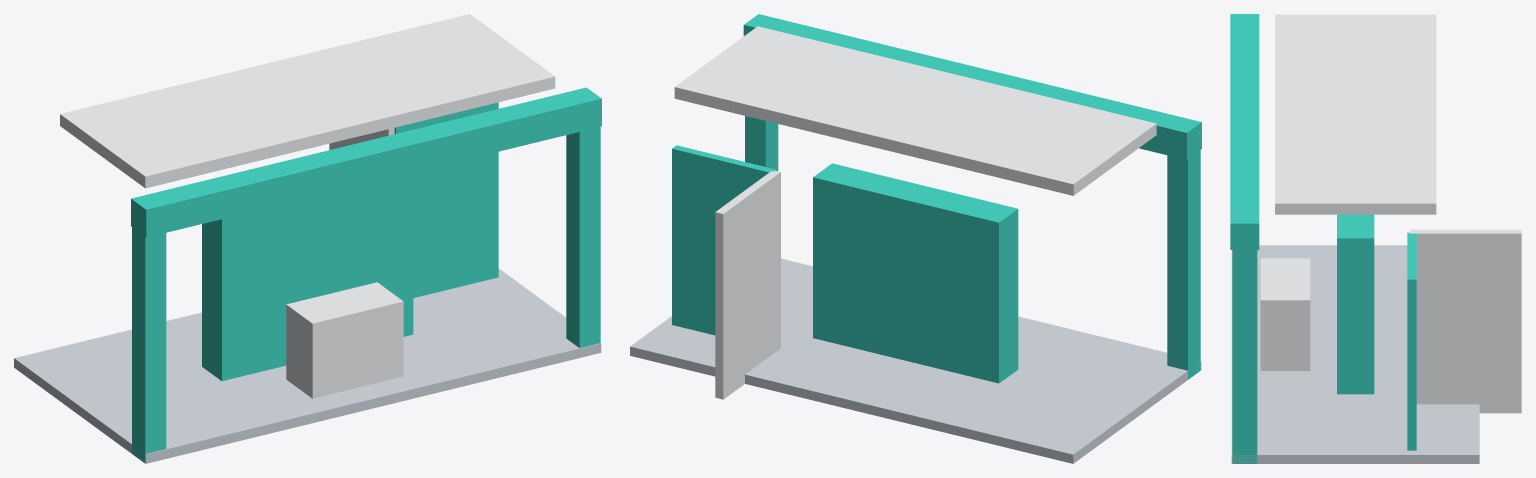
3 views of the same model, side by side, from view 1: azimuth 30°, elevation 25°; view 2: azimuth 150°, elevation 25°; view 3: azimuth 270°, elevation 25° (orthographic). The views are drawn at different scales.
Parts seen in each view (by area): view 1: Exhibition Booth Concept; view 2: Exhibition Booth Concept; view 3: Exhibition Booth Concept.
Boxes of the visible parts, bbox=[...] form: Exhibition Booth Concept: bbox=[14, 14, 601, 463]; Exhibition Booth Concept: bbox=[630, 14, 1201, 463]; Exhibition Booth Concept: bbox=[1230, 14, 1521, 463].
Bounding box in the file's own units: 6 × 3.34 × 3.52.
